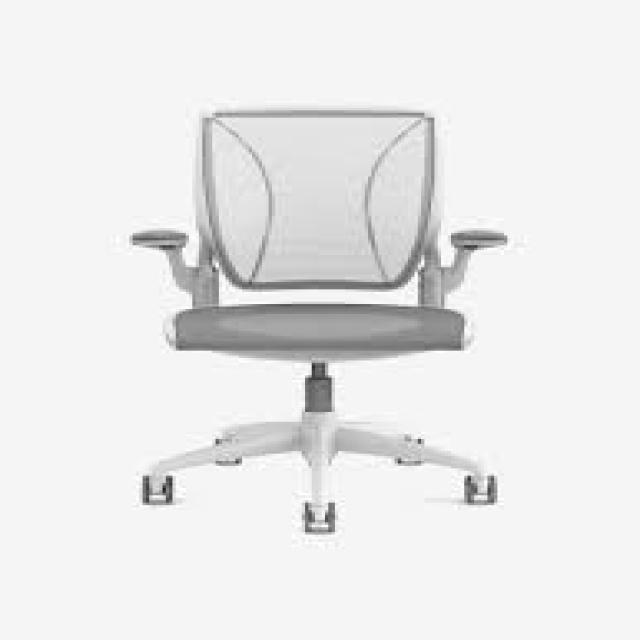chair: (98, 85, 571, 568)
